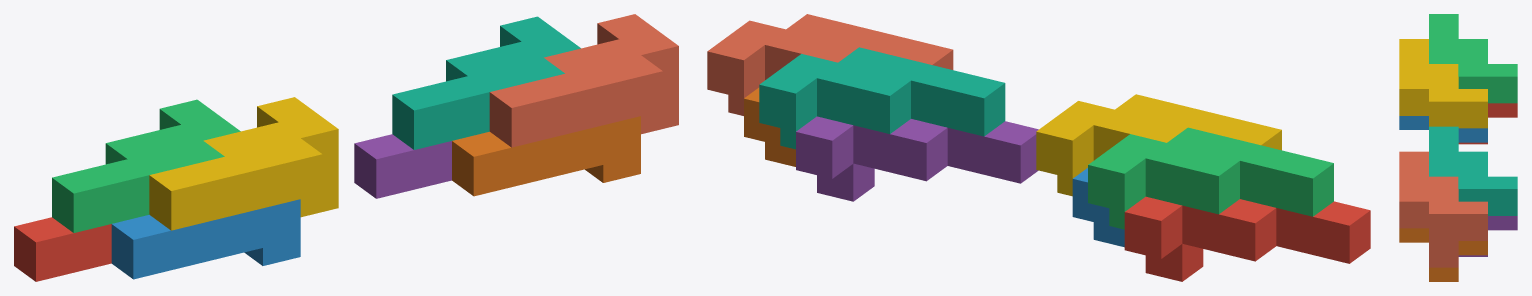
Rendered from tiling.obj.
3 renders of one model, left to right at view 1: azimuth 30°, elevation 25°; view 2: azimuth 150°, elevation 25°; view 3: azimuth 270°, elevation 25°, orthographic. The views are drawn at different scales.
Parts seen in each view (by area): view 1: copy_1_domain_4, copy_1_domain_8, copy_1_domain_3, copy_1_domain_7, copy_1_domain_2, copy_1_domain_6, copy_1_domain_1, copy_1_domain_5; view 2: copy_1_domain_7, copy_1_domain_3, copy_1_domain_1, copy_1_domain_5, copy_1_domain_8, copy_1_domain_4, copy_1_domain_2, copy_1_domain_6; view 3: copy_1_domain_8, copy_1_domain_4, copy_1_domain_7, copy_1_domain_3, copy_1_domain_6, copy_1_domain_2, copy_1_domain_1, copy_1_domain_5.
Part boxes in pixels (left/top/right/bottom): copy_1_domain_4: left=149, top=97, right=338, bottom=230; copy_1_domain_8: left=489, top=14, right=678, bottom=147; copy_1_domain_3: left=52, top=99, right=240, bottom=232; copy_1_domain_7: left=392, top=16, right=580, bottom=149; copy_1_domain_2: left=111, top=199, right=300, bottom=279; copy_1_domain_6: left=452, top=116, right=640, bottom=196; copy_1_domain_1: left=14, top=217, right=111, bottom=281; copy_1_domain_5: left=354, top=134, right=451, bottom=198; copy_1_domain_7: left=759, top=47, right=1005, bottom=149; copy_1_domain_3: left=1088, top=127, right=1333, bottom=229; copy_1_domain_1: left=1124, top=196, right=1370, bottom=281; copy_1_domain_5: left=796, top=116, right=1038, bottom=201; copy_1_domain_8: left=707, top=14, right=953, bottom=115; copy_1_domain_4: left=1036, top=94, right=1281, bottom=196; copy_1_domain_2: left=1072, top=168, right=1124, bottom=247; copy_1_domain_6: left=744, top=87, right=795, bottom=166; copy_1_domain_8: left=1399, top=151, right=1487, bottom=267; copy_1_domain_4: left=1399, top=39, right=1487, bottom=128; copy_1_domain_7: left=1429, top=126, right=1517, bottom=215; copy_1_domain_3: left=1429, top=14, right=1517, bottom=103; copy_1_domain_6: left=1399, top=228, right=1487, bottom=281; copy_1_domain_2: left=1399, top=116, right=1487, bottom=142; copy_1_domain_1: left=1458, top=103, right=1517, bottom=144; copy_1_domain_5: left=1458, top=216, right=1517, bottom=256.
Size of the model in its own units: 17 by 3 by 4.
